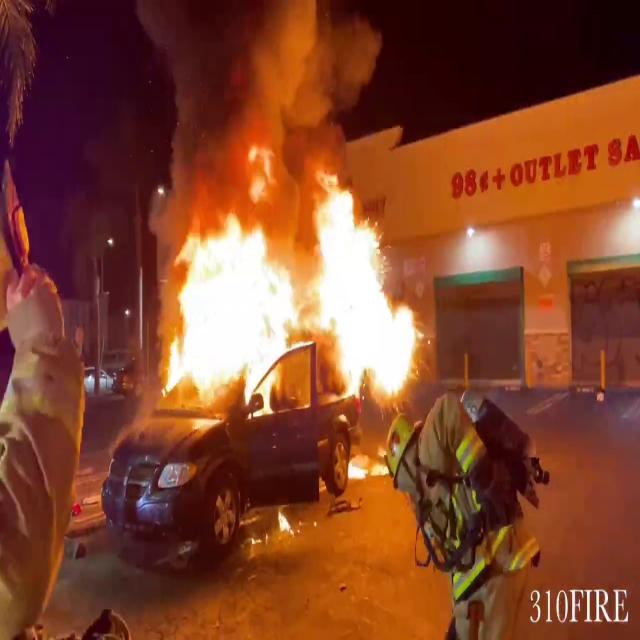Fire: (155, 144, 424, 408)
Smoke: (147, 0, 380, 200)
